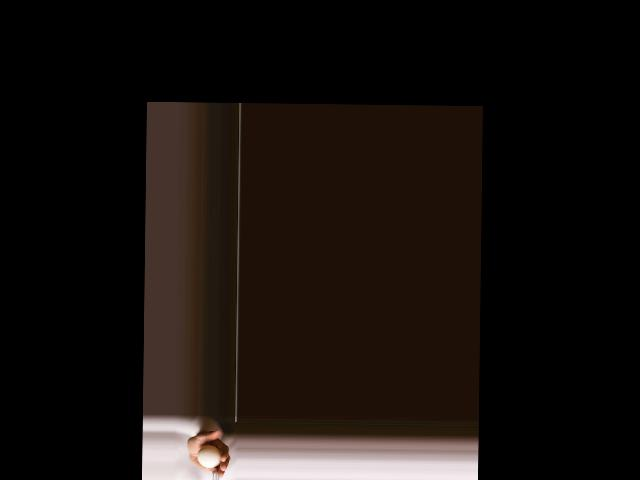egg: (197, 445, 221, 468)
